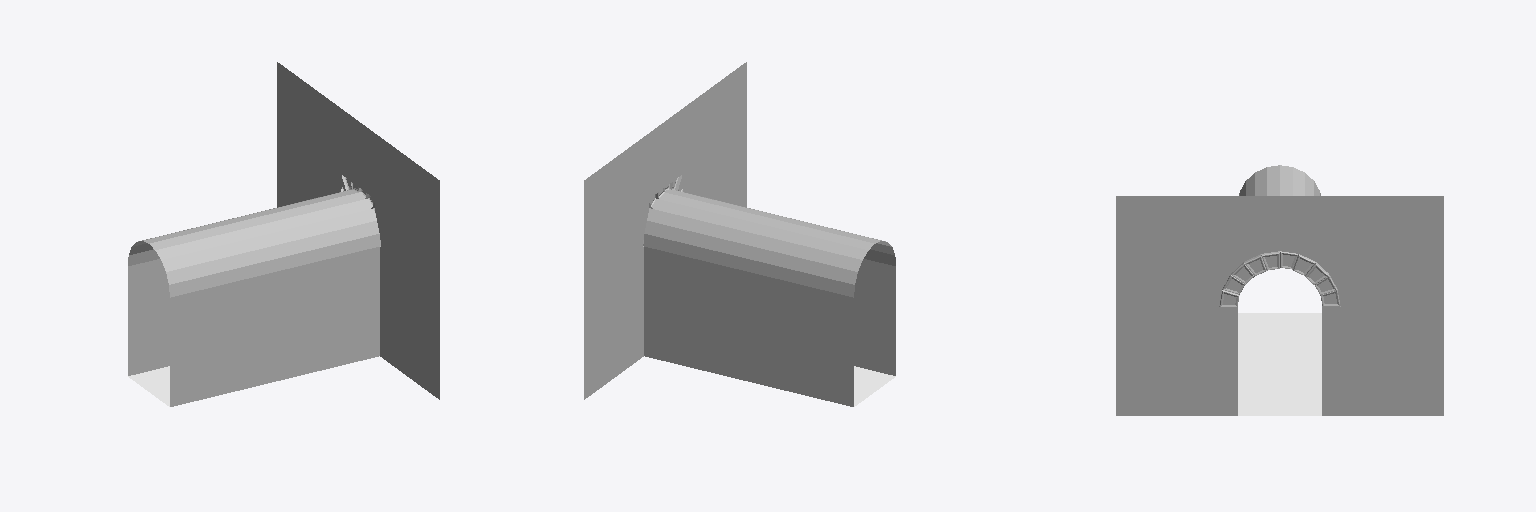
Rendered from cave_entrance.obj.
3 views of the same model, side by side, from view 1: azimuth 30°, elevation 25°; view 2: azimuth 150°, elevation 25°; view 3: azimuth 270°, elevation 25° (orthographic).
Visible parts, largest first — view 1: entrance.1; view 2: entrance.1; view 3: entrance.1.
Boxes of the visible parts, x1=… form: entrance.1: x1=128, y1=62, x2=439, y2=406; entrance.1: x1=584, y1=62, x2=895, y2=406; entrance.1: x1=1116, y1=165, x2=1443, y2=415.
Bounding box in the file's own units: 409 × 400 × 540.